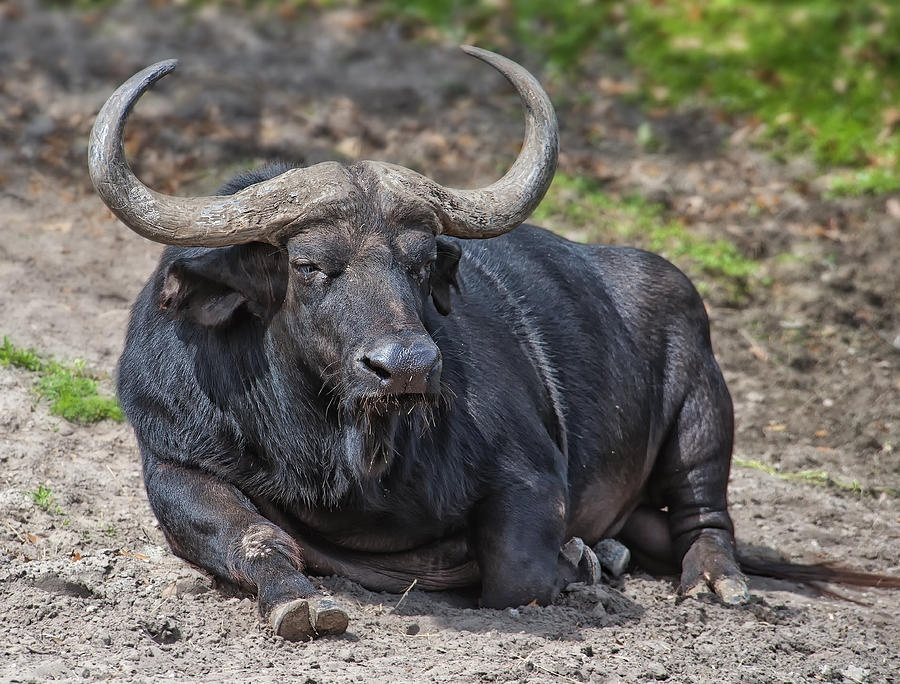buffalo: (87, 43, 760, 613)
